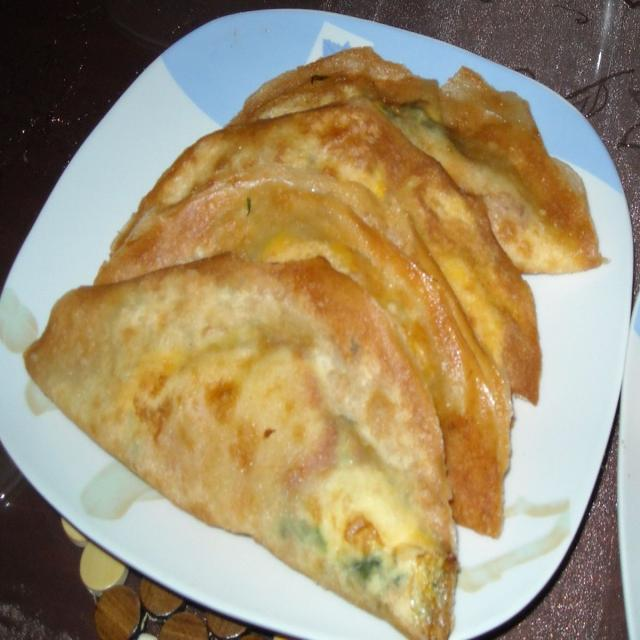brik: (46, 255, 461, 619), (155, 113, 534, 433), (253, 14, 592, 251)
